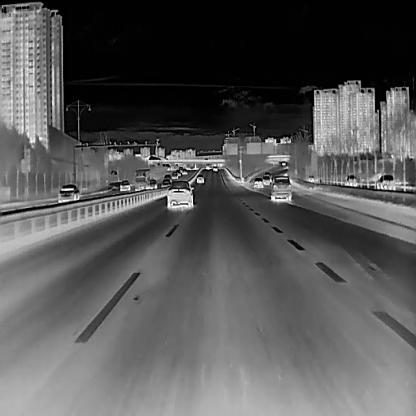car: (166, 180, 194, 207), (271, 175, 292, 200), (57, 184, 79, 202), (376, 174, 395, 189), (344, 174, 357, 185), (253, 176, 263, 187), (120, 180, 130, 190), (262, 174, 271, 184), (160, 178, 170, 187), (196, 174, 204, 183), (150, 178, 157, 188), (164, 173, 171, 180), (171, 171, 177, 178), (176, 169, 180, 176), (182, 168, 186, 174), (213, 165, 217, 171), (282, 162, 286, 165)
truck: (134, 168, 150, 190)
